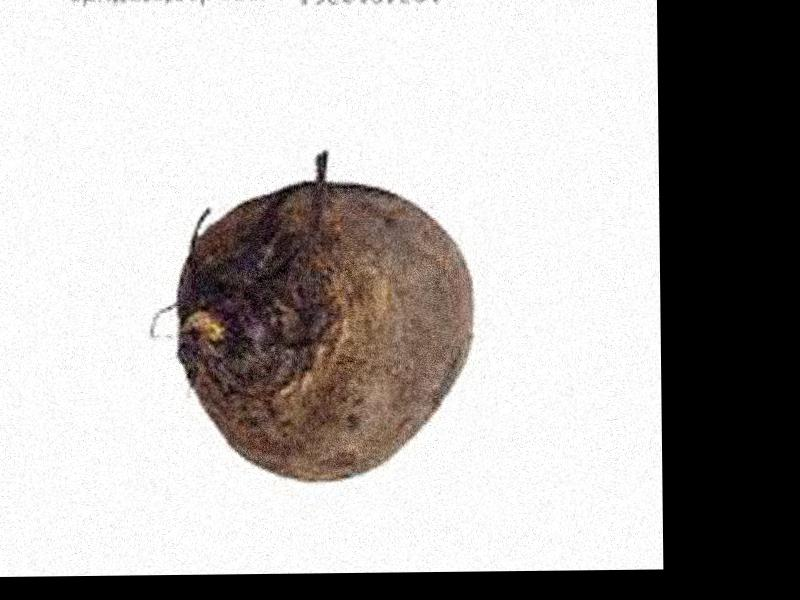Beet: (179, 182, 478, 482)
